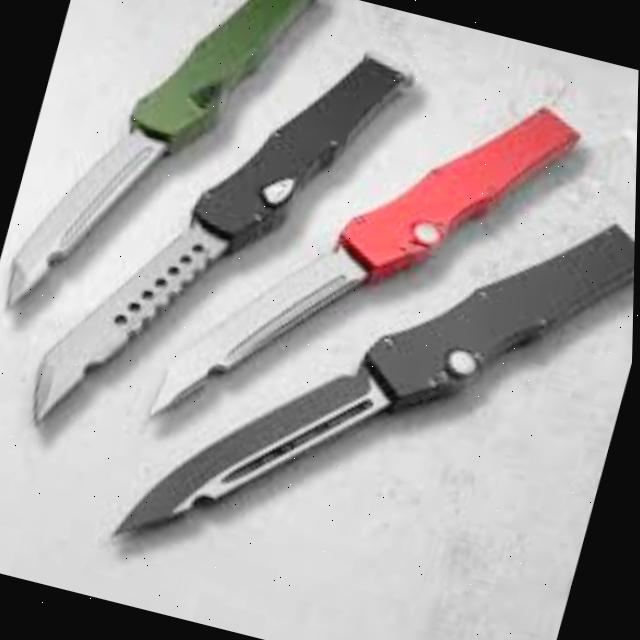knife: (111, 122, 638, 640), (150, 28, 591, 500), (27, 0, 420, 489), (0, 0, 325, 359)
